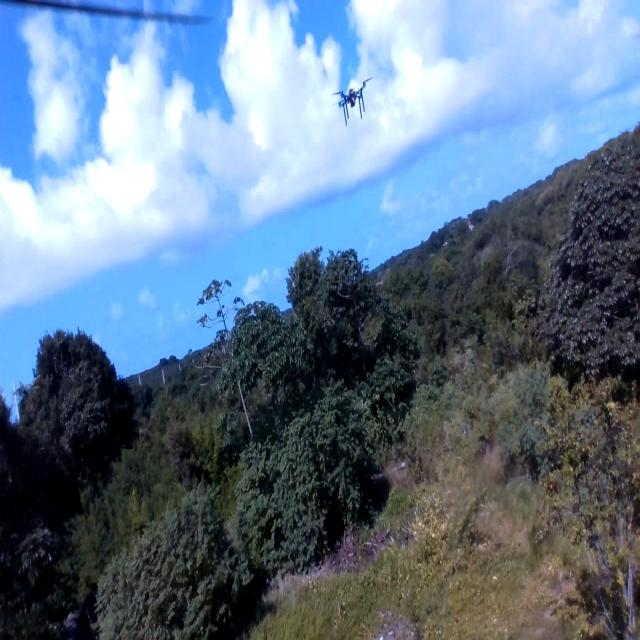-uav-: (326, 68, 378, 132)
